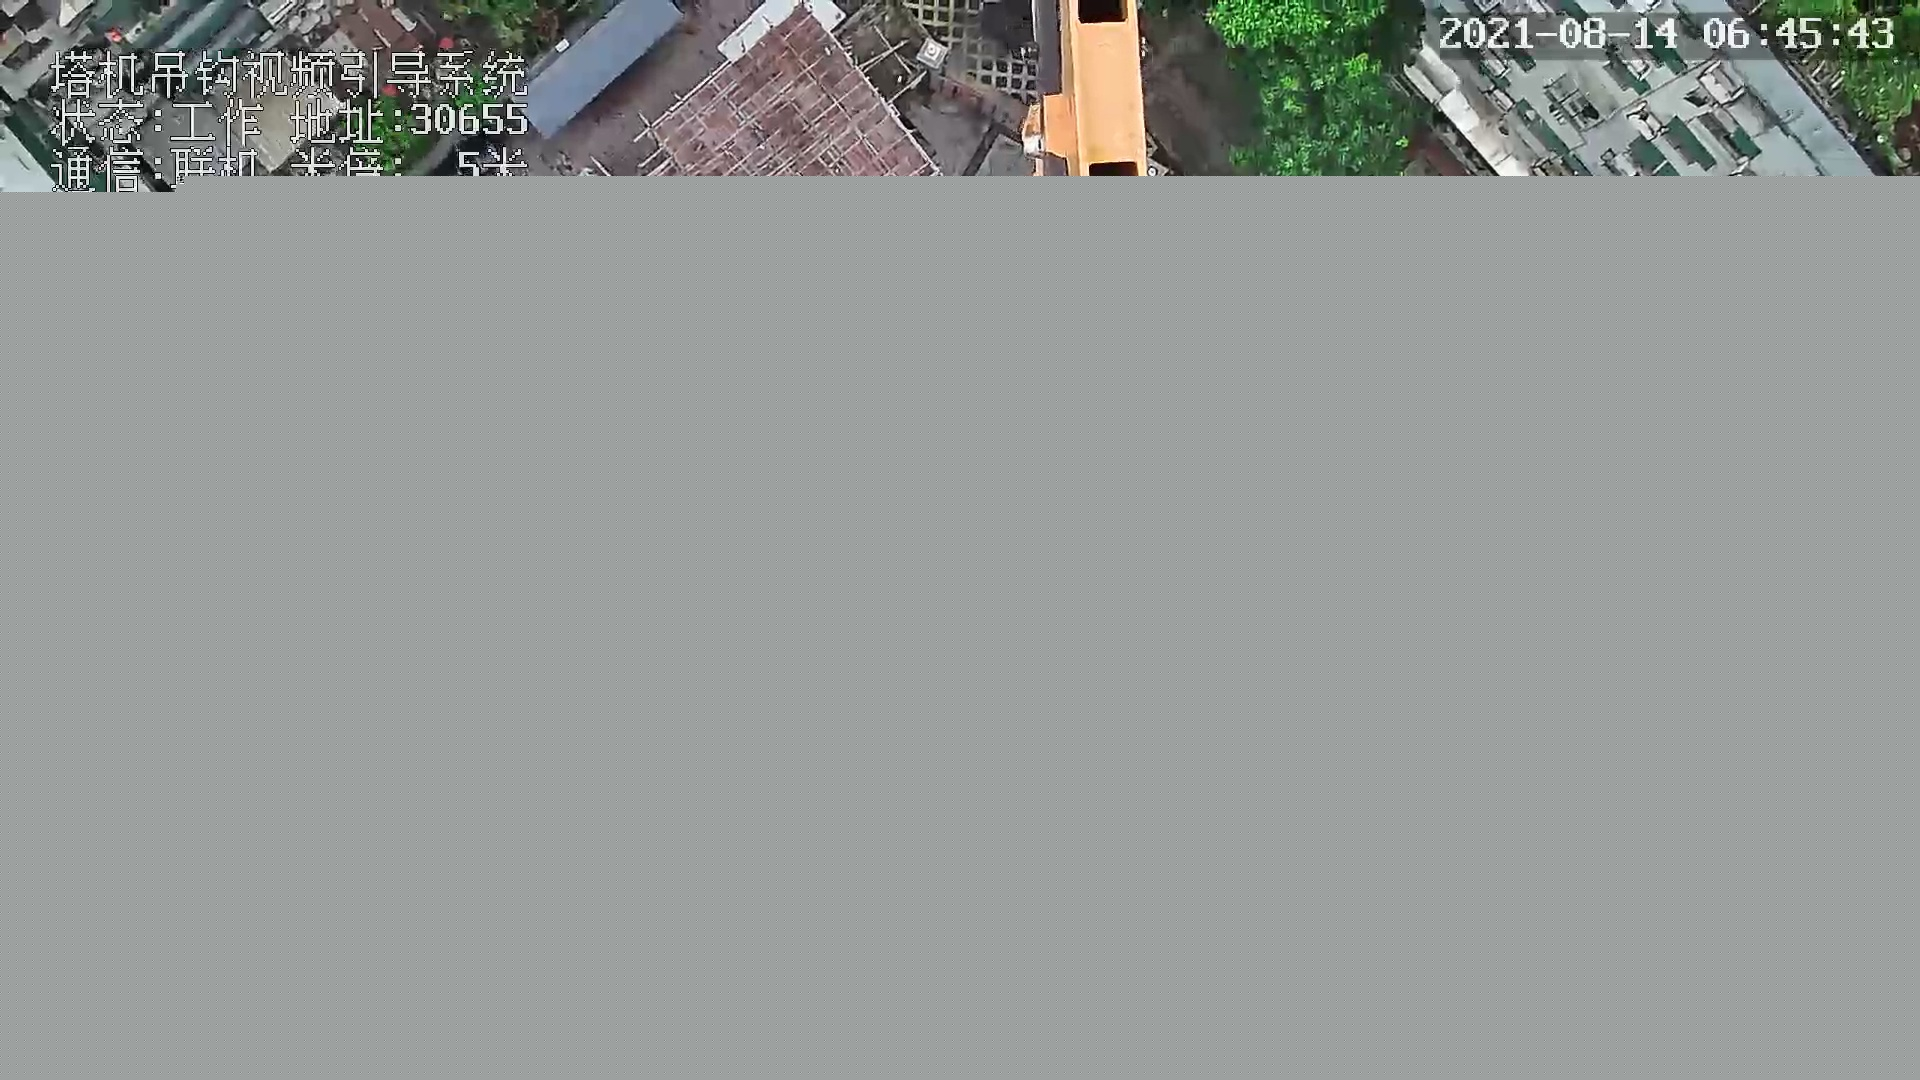helmet: (323, 924, 351, 939), (270, 961, 292, 980)
person: (323, 894, 373, 944), (263, 944, 305, 991)
